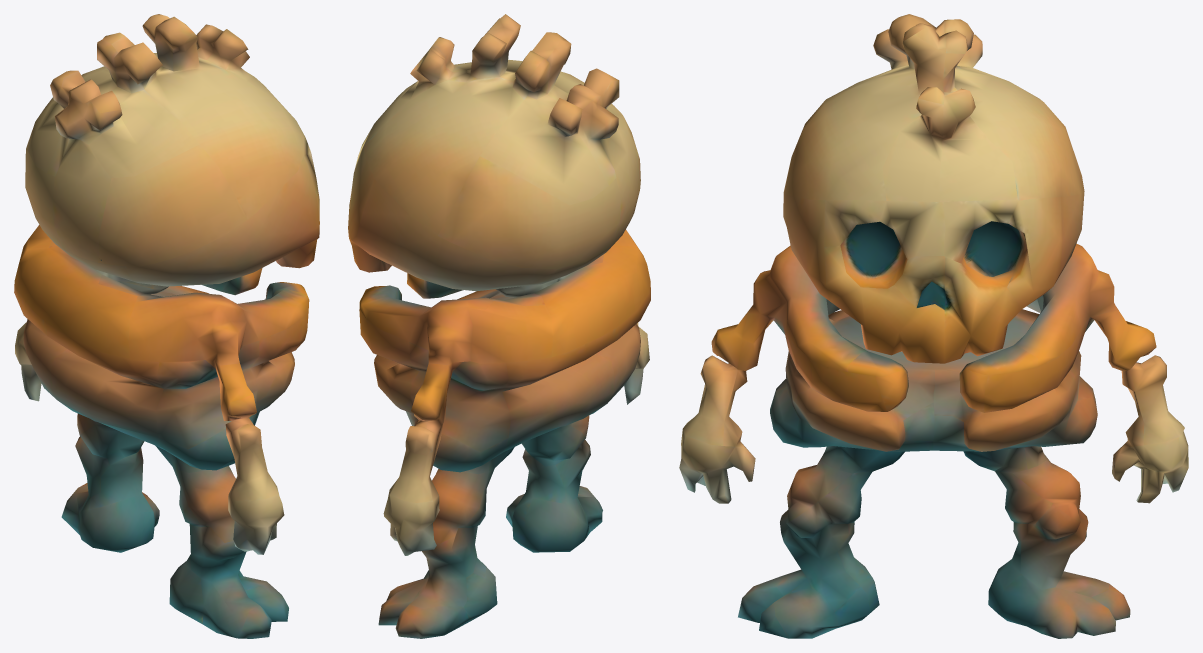
Rendered from m3d_osario-g1.glb.
3 renders of one model, left to right at view 1: azimuth 30°, elevation 25°; view 2: azimuth 150°, elevation 25°; view 3: azimuth 270°, elevation 25°, orthographic. The views are drawn at different scales.
Visible parts, largest first — view 1: tripo_node_a3534372-dc2c-410e-b88f-8e60c4c8f2f7; view 2: tripo_node_a3534372-dc2c-410e-b88f-8e60c4c8f2f7; view 3: tripo_node_a3534372-dc2c-410e-b88f-8e60c4c8f2f7.
Part boxes in pixels (<box>): tripo_node_a3534372-dc2c-410e-b88f-8e60c4c8f2f7: <box>14,14,319,638</box>; tripo_node_a3534372-dc2c-410e-b88f-8e60c4c8f2f7: <box>348,14,650,638</box>; tripo_node_a3534372-dc2c-410e-b88f-8e60c4c8f2f7: <box>679,14,1188,638</box>.
Size of the model in its own units: 0.4676 by 0.9976 by 0.7821.
Materials: 1 (1 with a texture image).
